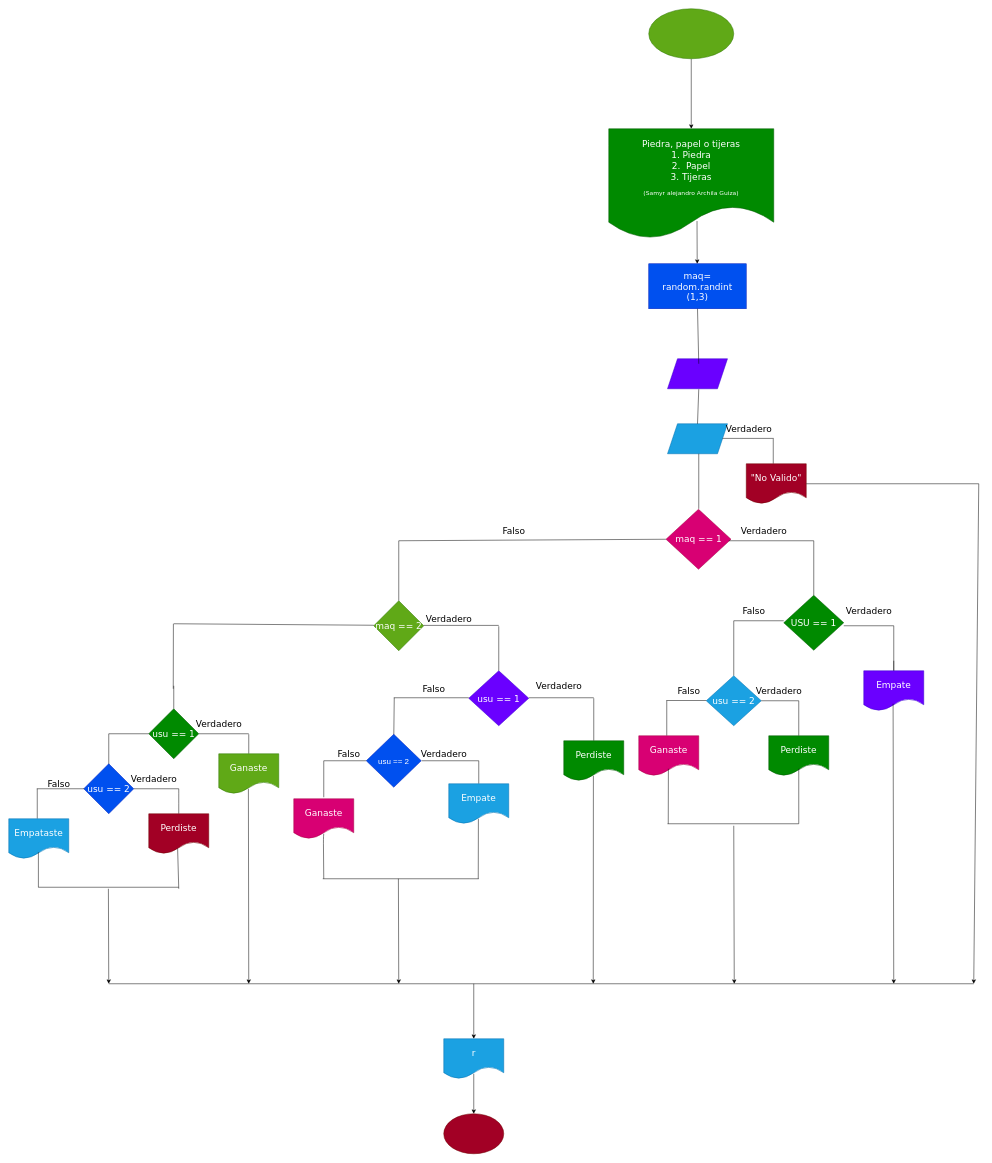
Some shapes in this 992 by 1163 pixel diagram are drawn without their labels. The centre of each missing label's shape, as x and y in pixels:
"FIN" belongs at (x=473, y=1133).
"INICIO" belongs at (x=691, y=33).
"usu" belongs at (x=697, y=373).
"usu == 4" belongs at (x=697, y=438).
